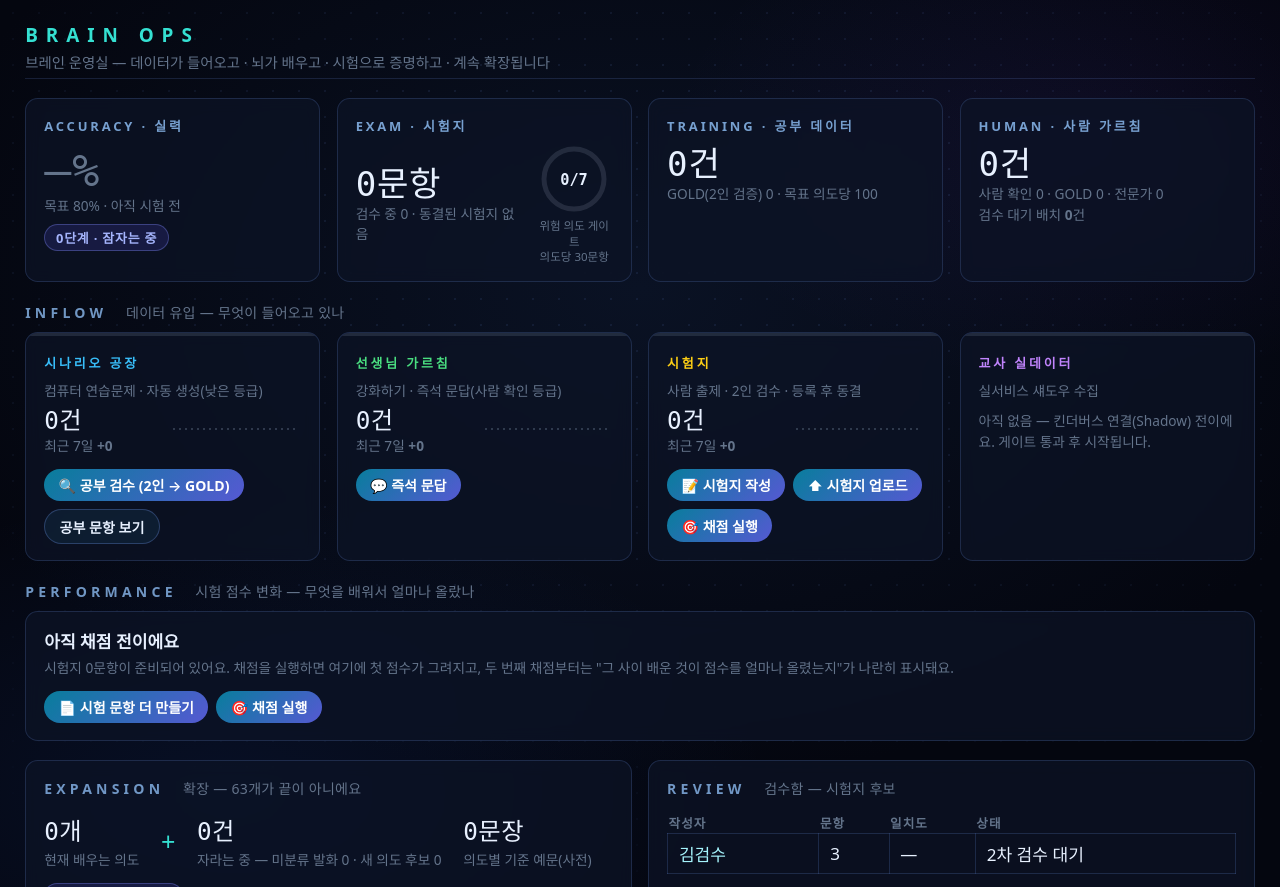
Scenario: DashboardView — 액션은 기존 흐름 연결 › 검수함 행 클릭 → 검수 모달 열림(store) + 동결 고지 존재
Click the text "김검수" at (743, 854), box [668,834,819,874]
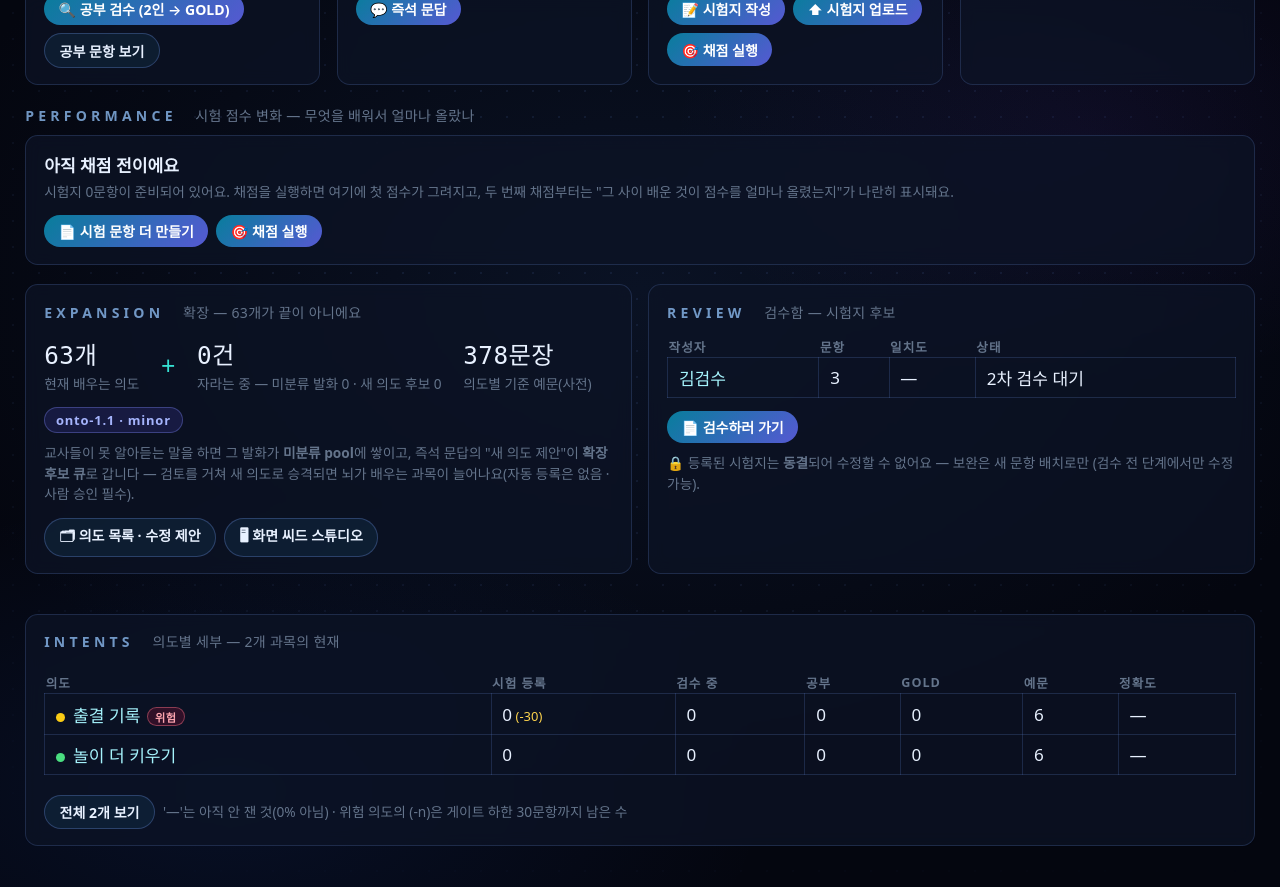
Check: the text "동결" is shown, box [783,453,808,472]
Check: the text "수정할 수 없어요" is shown, box [667,453,1233,493]
